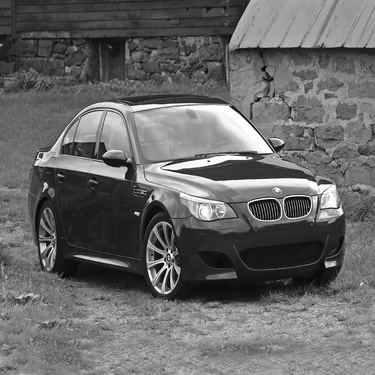car: (22, 94, 350, 301)
